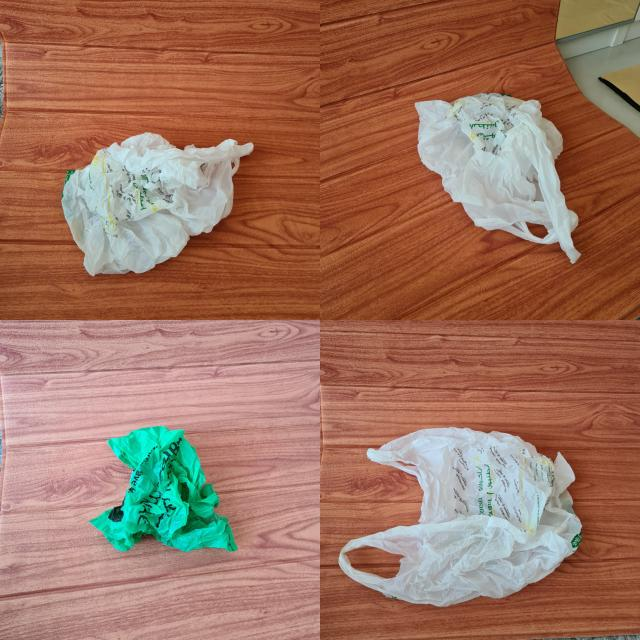Single-layer Plastic: (339, 428, 581, 606), (415, 92, 580, 262), (61, 132, 254, 275), (90, 426, 238, 551)
